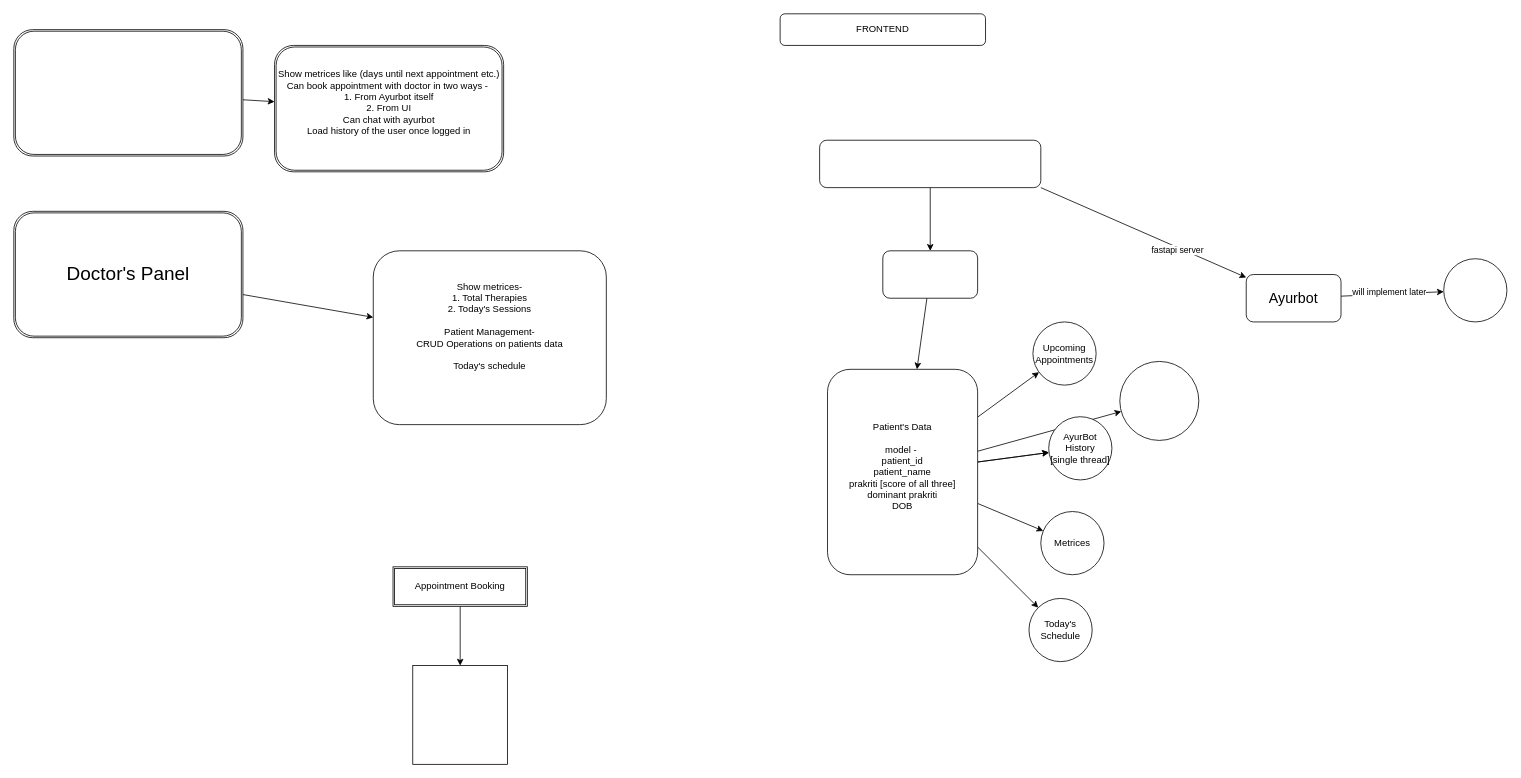
Image size: 1521x778. Some labels were removed from this diagram. The centre of each missing label's shape, as x and y in pixels:
"BACKEND" goes at pixel 930 163.
"DATABASE" goes at pixel 930 274.
"History of diseases (NOT MANDATORY)" goes at pixel 1159 400.
"Maintaining different chats at different times" goes at pixel 1475 290.
"Patient name patient id Doctor's Name Doctor's Id Date" goes at pixel 460 714.
"Patient's Panel" goes at pixel 128 92.
